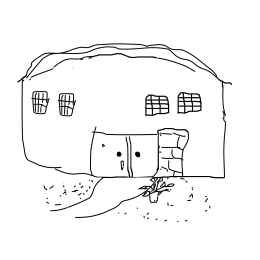closed_window: (133, 87, 172, 121), (175, 90, 204, 118), (57, 89, 80, 120), (28, 89, 51, 116)
door: (84, 127, 163, 178)
roof: (7, 36, 238, 84)
wall: (15, 66, 231, 181)
